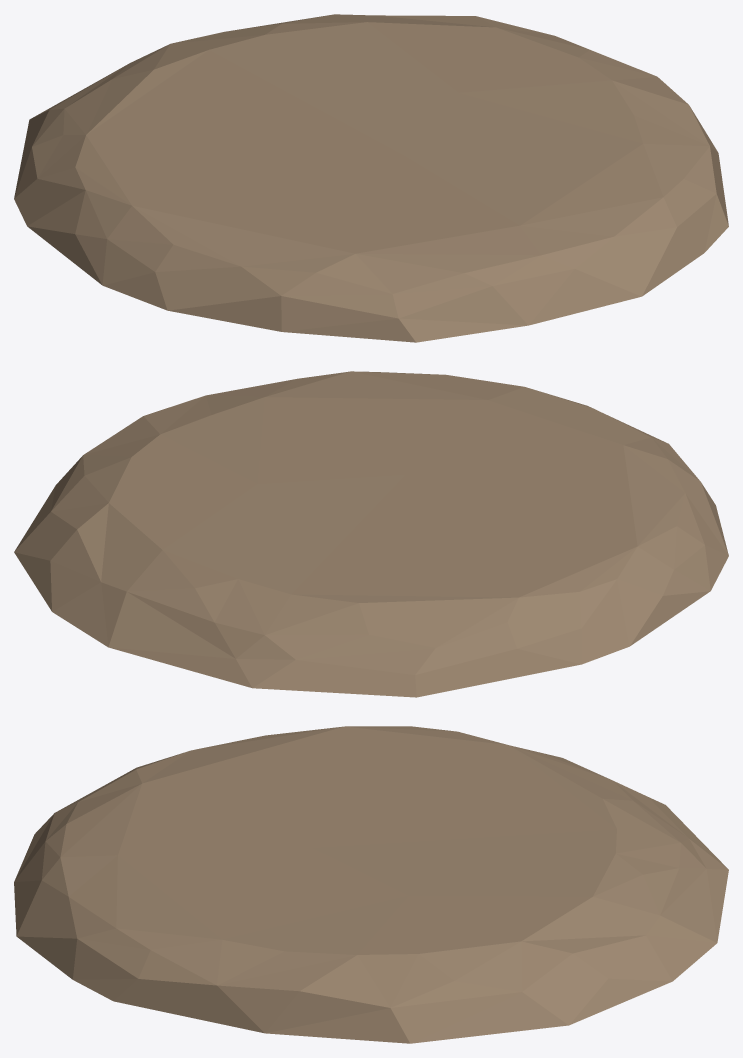
The model's file is SM_Env_Ground_Hill_Flat_03.glb.
The picture shows the model from 3 angles, top to bottom: view 1: azimuth 30°, elevation 25°; view 2: azimuth 150°, elevation 25°; view 3: azimuth 270°, elevation 25°; orthographic projection. The views are drawn at different scales.
Visible parts, largest first — view 1: SM_Env_Ground_Hill_Flat_03; view 2: SM_Env_Ground_Hill_Flat_03; view 3: SM_Env_Ground_Hill_Flat_03.
Boxes of the visible parts, <box> form: SM_Env_Ground_Hill_Flat_03: <box>14,14,728,342</box>; SM_Env_Ground_Hill_Flat_03: <box>14,371,728,697</box>; SM_Env_Ground_Hill_Flat_03: <box>14,726,728,1043</box>.
Size of the model in its own units: 11.18 by 0.9025 by 11.51.
1 material, 1 textured.
